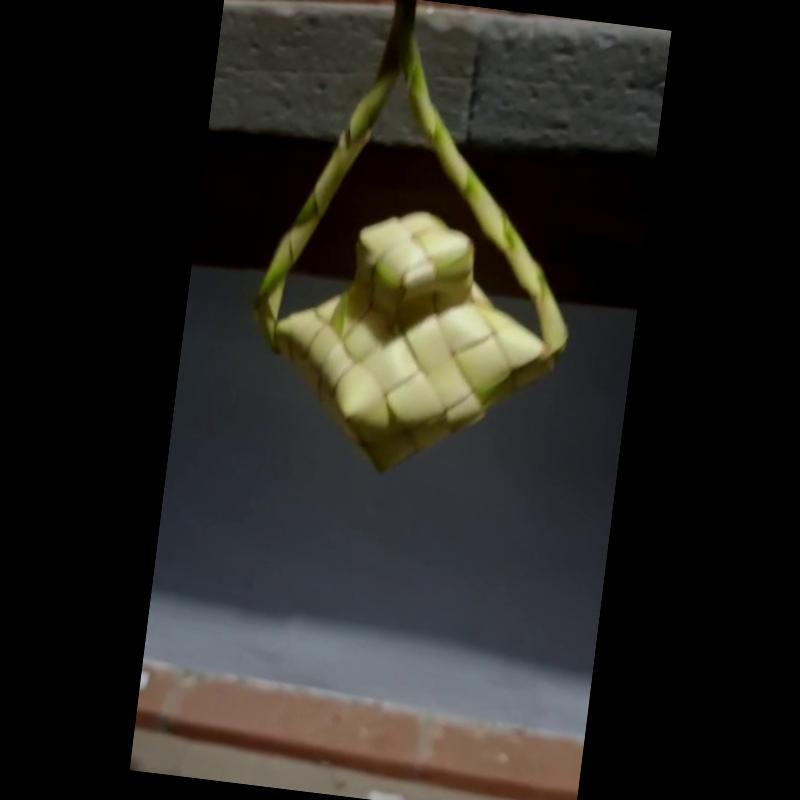Tipat Gong: (250, 0, 571, 482)
